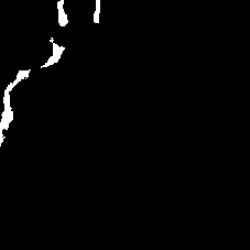crack: (1, 69, 31, 144), (42, 38, 62, 68), (56, 3, 68, 28), (93, 0, 100, 24)
